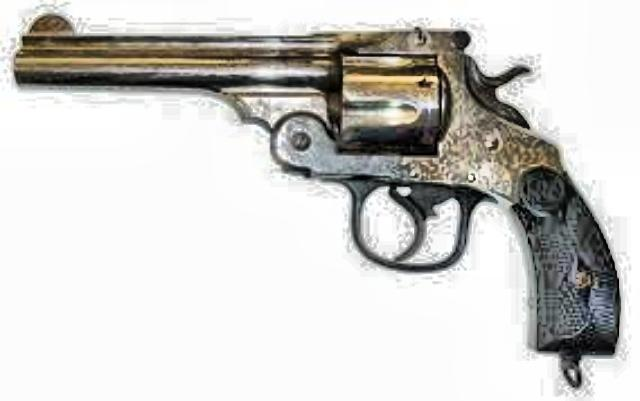pistol: (14, 12, 624, 358)
